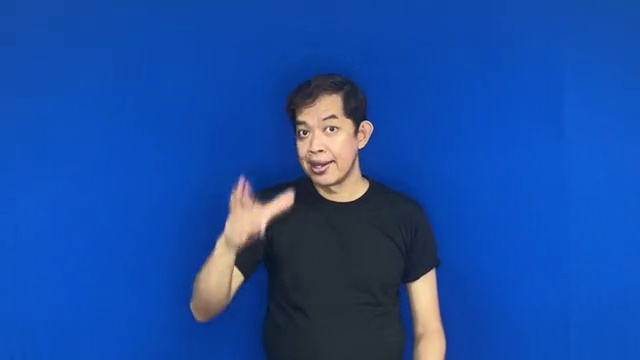chicken: (216, 171, 298, 252)
